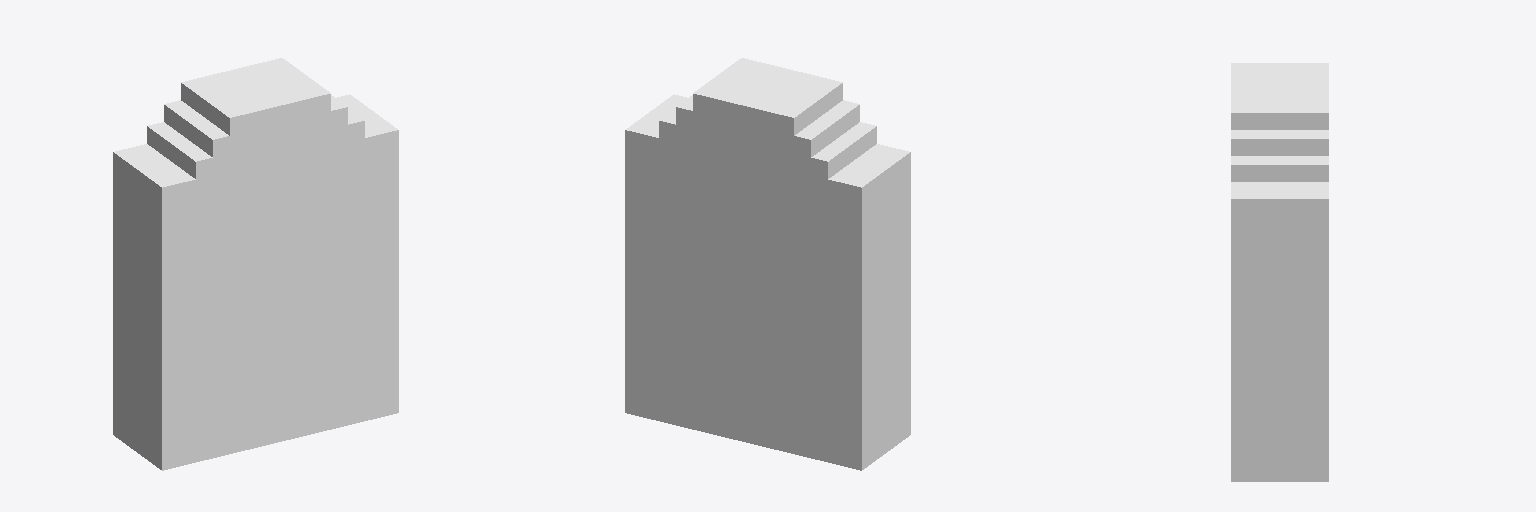
File: redstone.obj
3 views of the same model, side by side, from view 1: azimuth 30°, elevation 25°; view 2: azimuth 150°, elevation 25°; view 3: azimuth 270°, elevation 25° (orthographic).
Visible parts, largest first — view 1: object 1; view 2: object 1; view 3: object 1.
Boxes of the visible parts, <box> form: object 1: <box>113,58,398,470</box>; object 1: <box>625,58,910,470</box>; object 1: <box>1231,63,1328,481</box>.
Bounding box in the file's own units: 1.4 × 1.9 × 0.5.